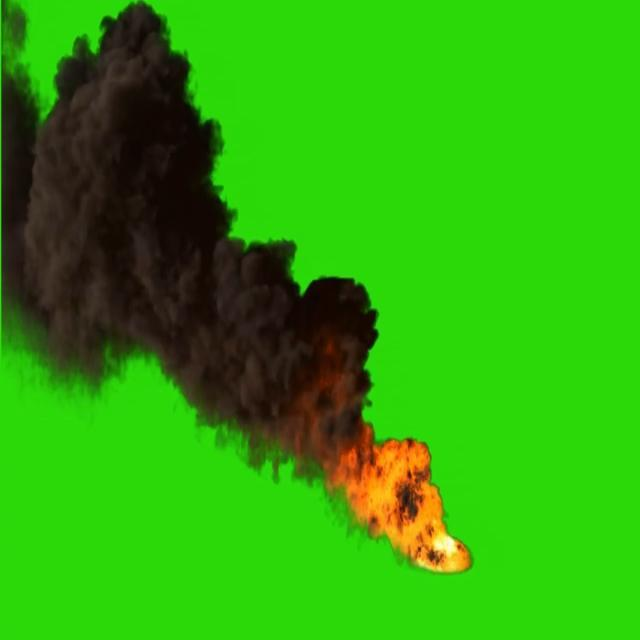Fire: (370, 441, 472, 567)
Smoke: (8, 11, 368, 462)
